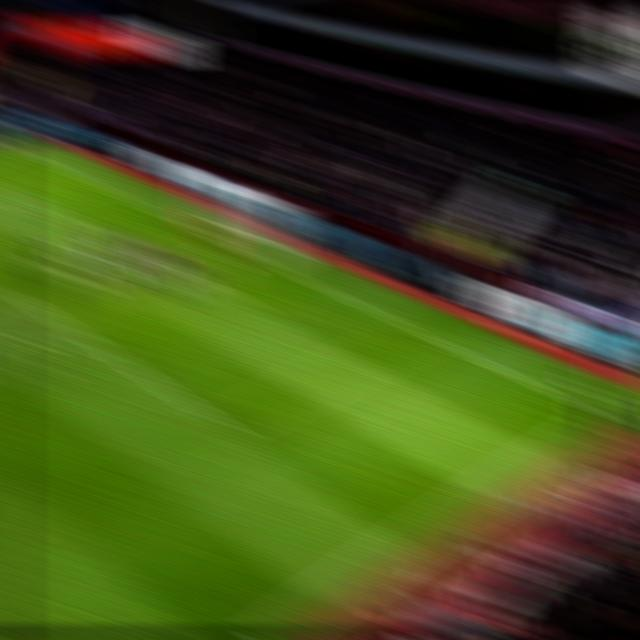bigarea_bottom_inner: (201, 406, 243, 440)
bigarea_bottom_outter: (400, 319, 441, 345)
bigarea_top_outter: (72, 169, 107, 190)
bottom_arc_area_intersection: (76, 329, 117, 358)
corner: (0, 134, 28, 153)
smallarea_bottom_inner: (232, 286, 272, 317)
smallarea_bottom_outter: (288, 267, 327, 293)
smallarea_top_inner: (89, 218, 126, 241)
smallarea_top_outter: (142, 201, 179, 224)
